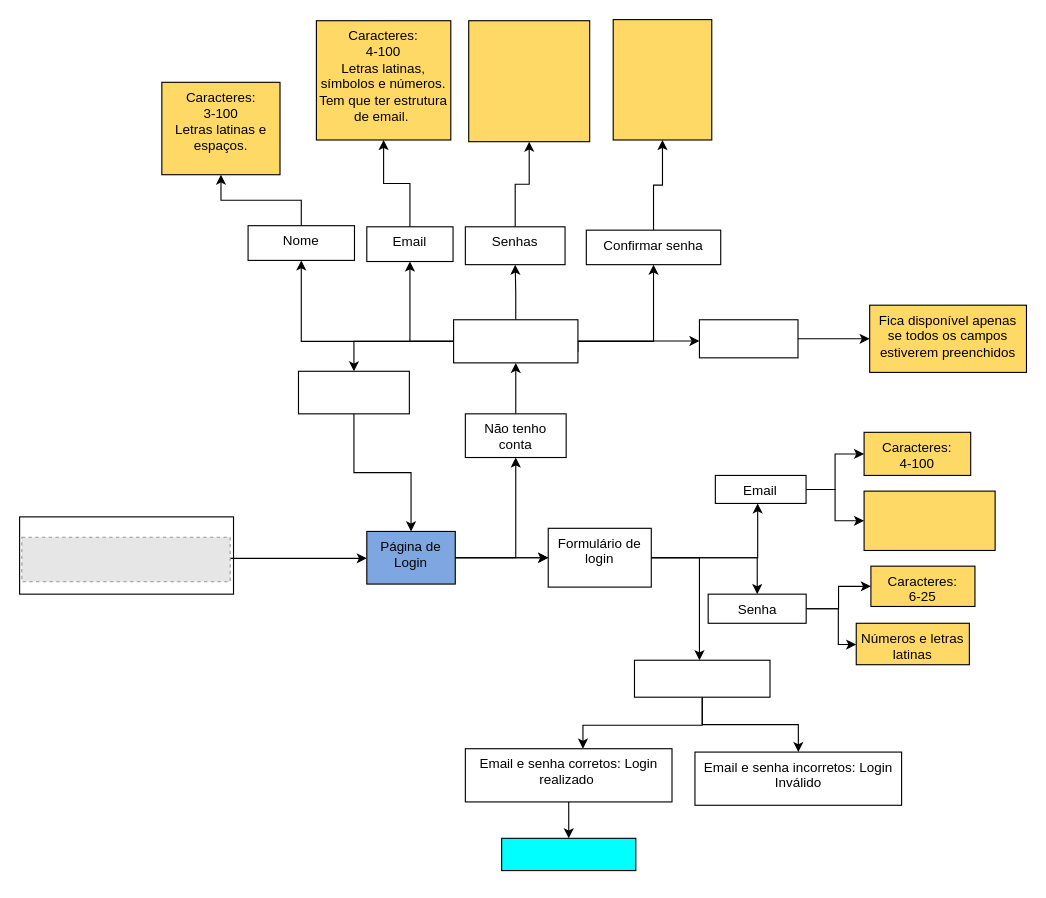
Image size: 1046x898. Some labels were removed from this diagram. Grey dashed boxes stand in for pictures. The centre of each missing label's shape, as x and y in pixels:
A entrada deve ser igual a entrada do campo senha.: the point at 662,79
Botão: Entrar: the point at 701,678
Caracteres: 6-25 Letras latinas, números e símbolos.: the point at 529,81
Criar conta: the point at 748,338
Formulário : Fazer Cadastro: the point at 515,341
Já criei minha conta: the point at 353,392
Letras latinas, símbolos,caracteres especiais.: the point at 929,520
Meus Lembretes: the point at 568,854
